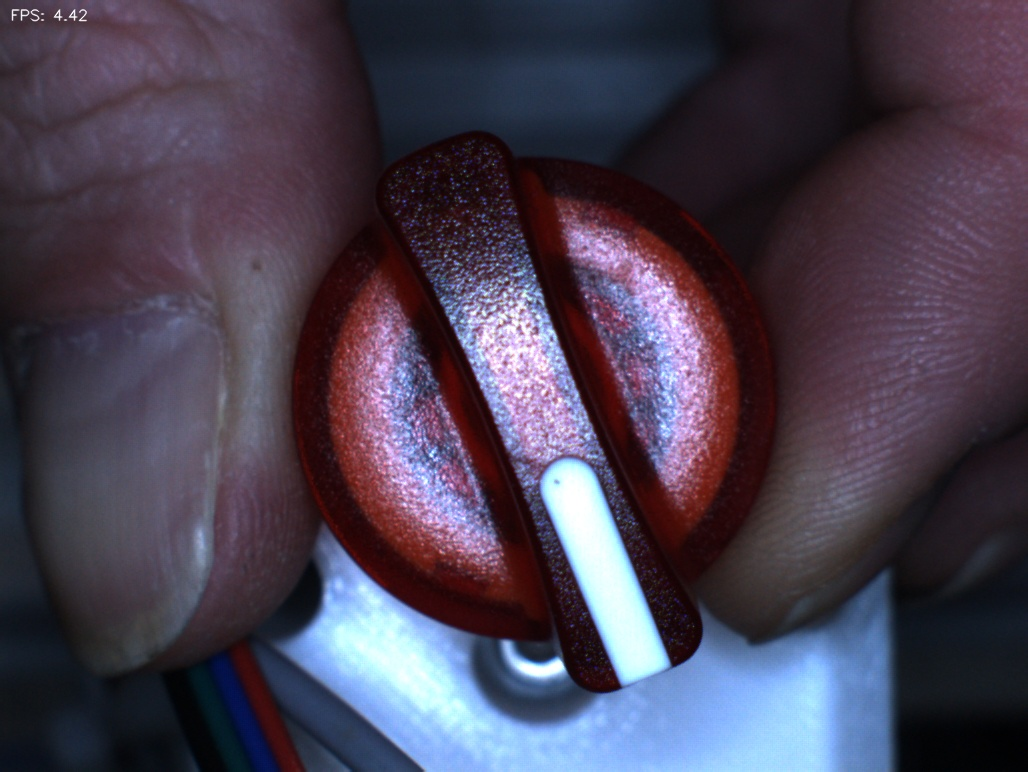PointNoir: (530, 455, 584, 505)
